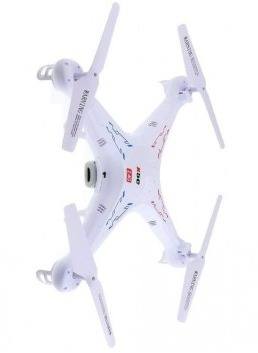drone: (35, 5, 225, 346)
